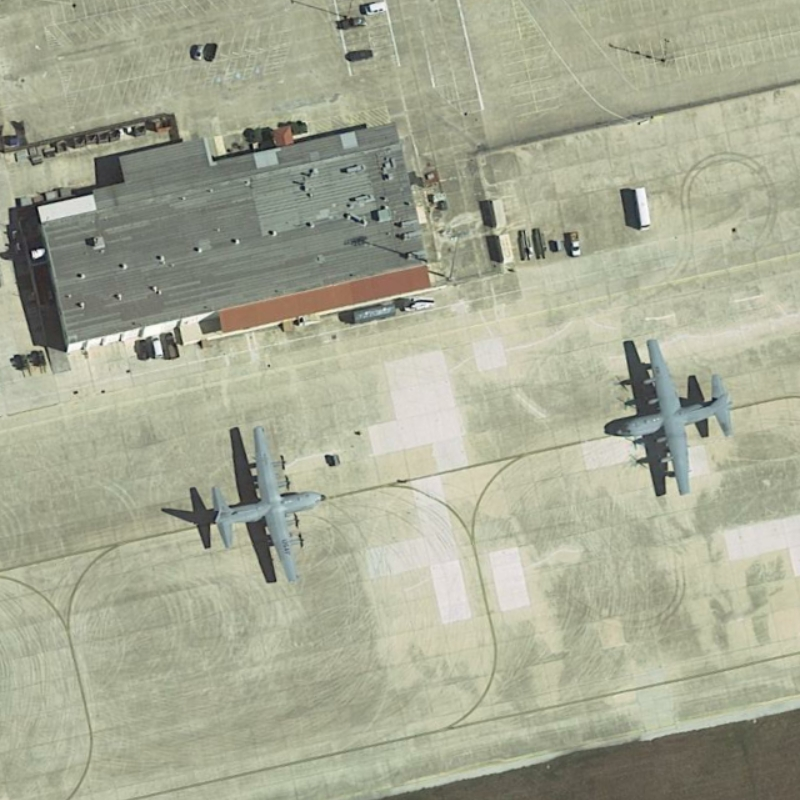A2: (607, 331, 743, 502), (200, 417, 331, 589)
